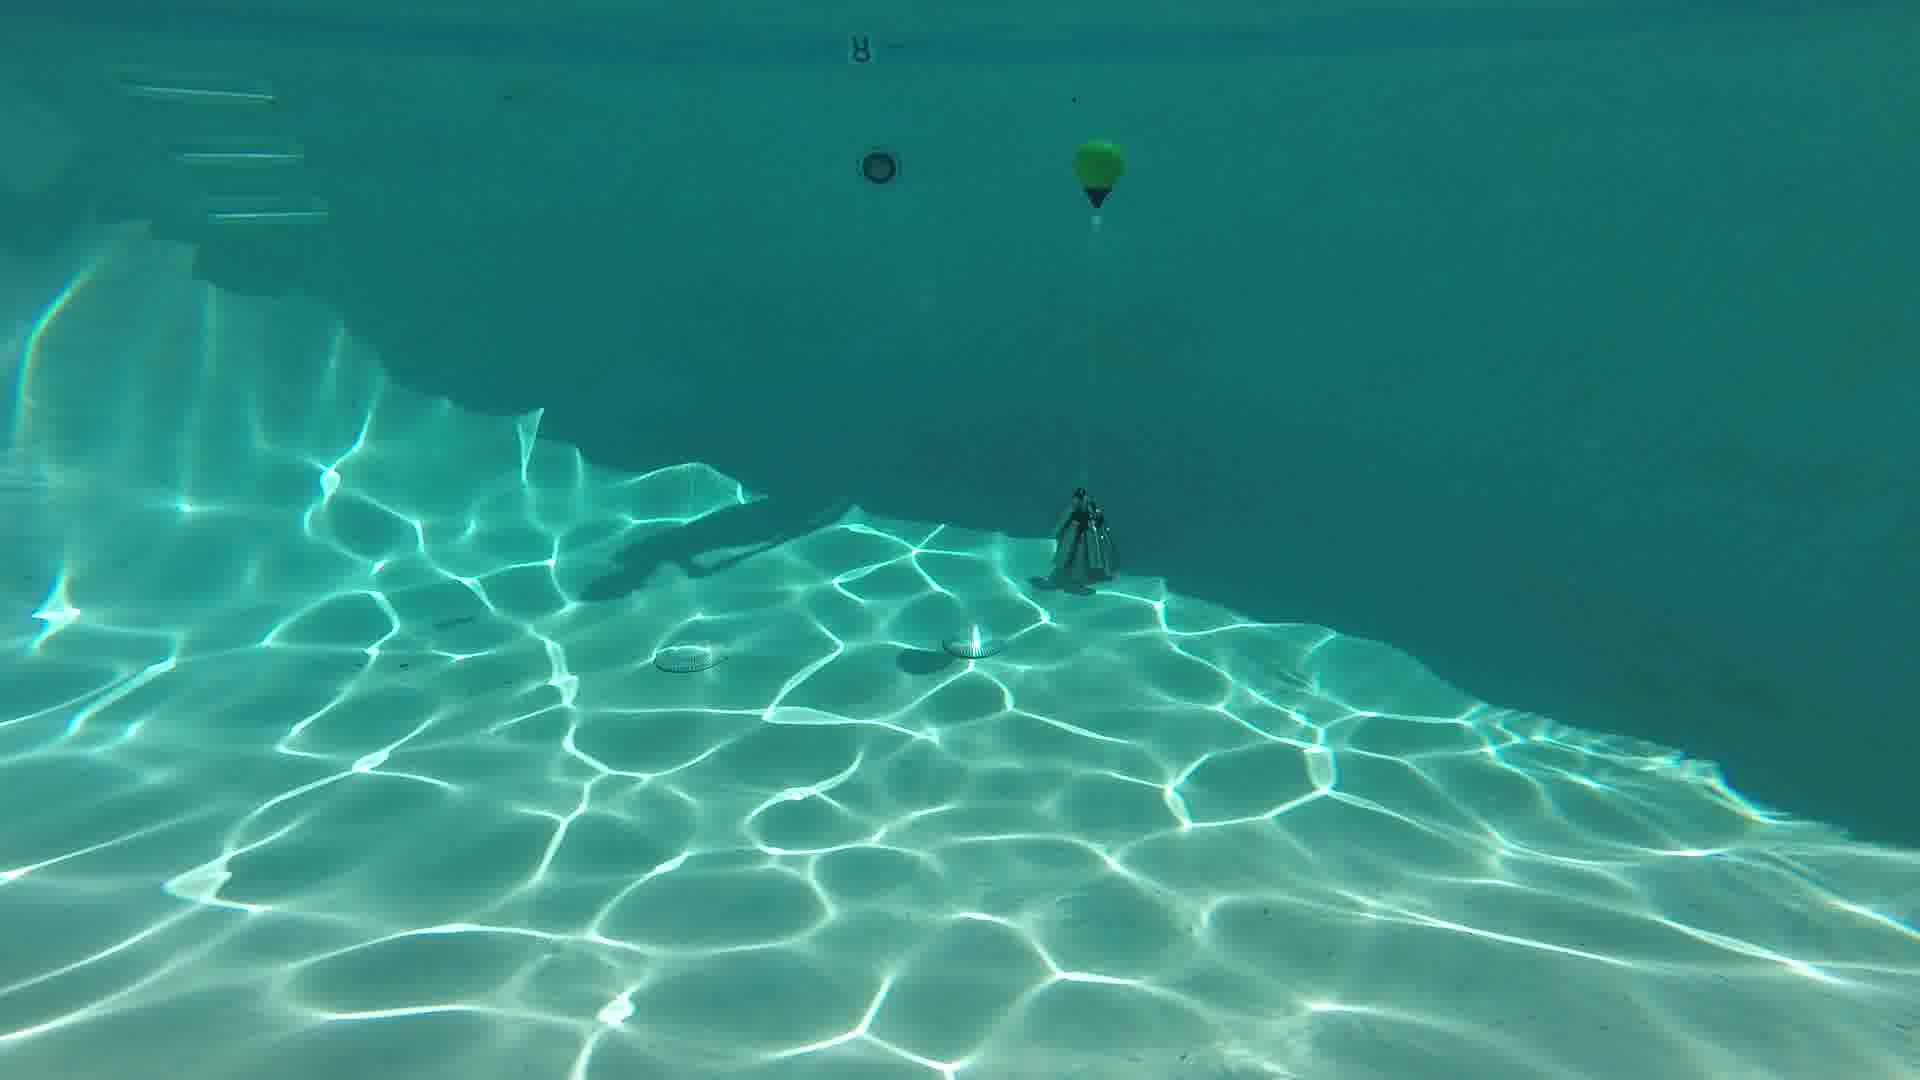yellow_buoy: (1071, 140, 1122, 207)
